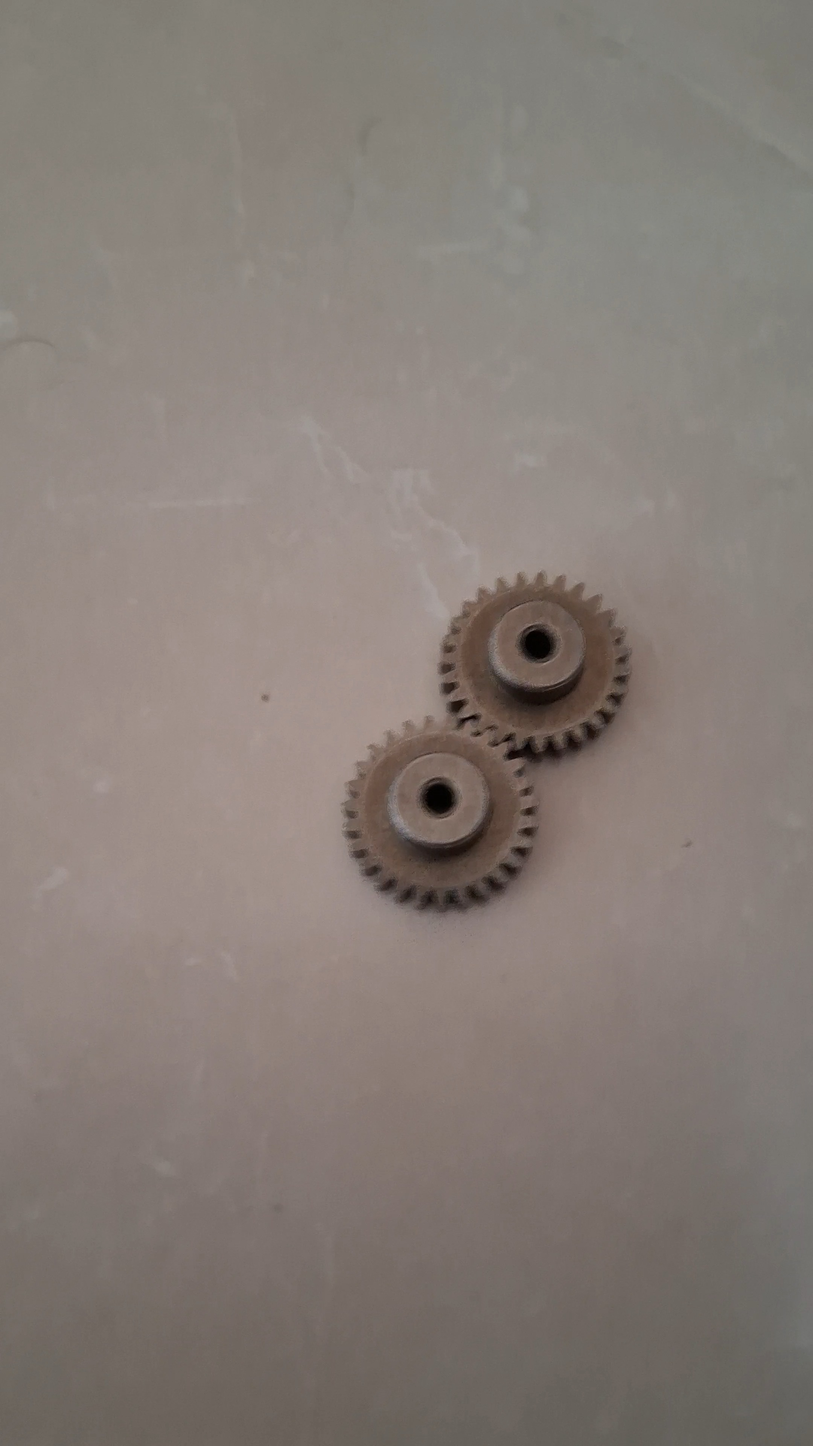spur gear: (350, 716, 543, 910), (445, 571, 633, 751)
